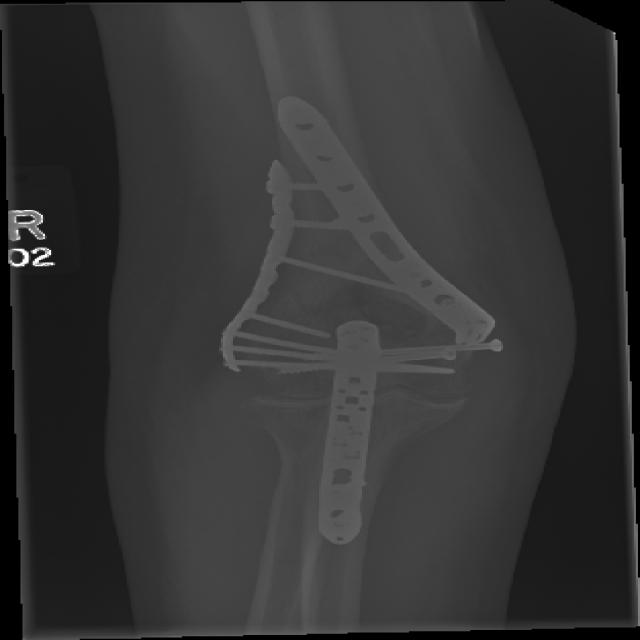elbow positive: (260, 252, 371, 341)
